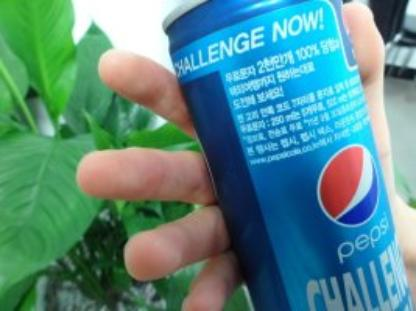Can: (158, 0, 416, 311)
